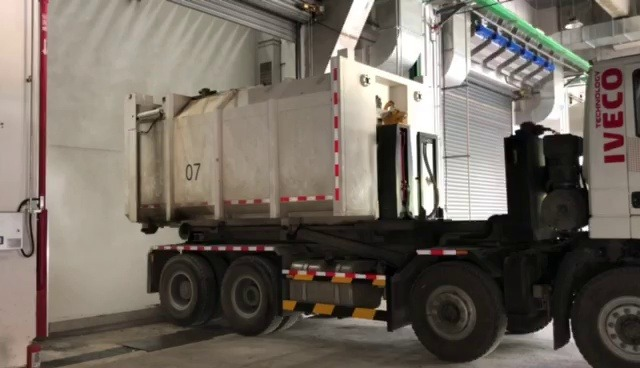truck: (108, 44, 640, 368)
